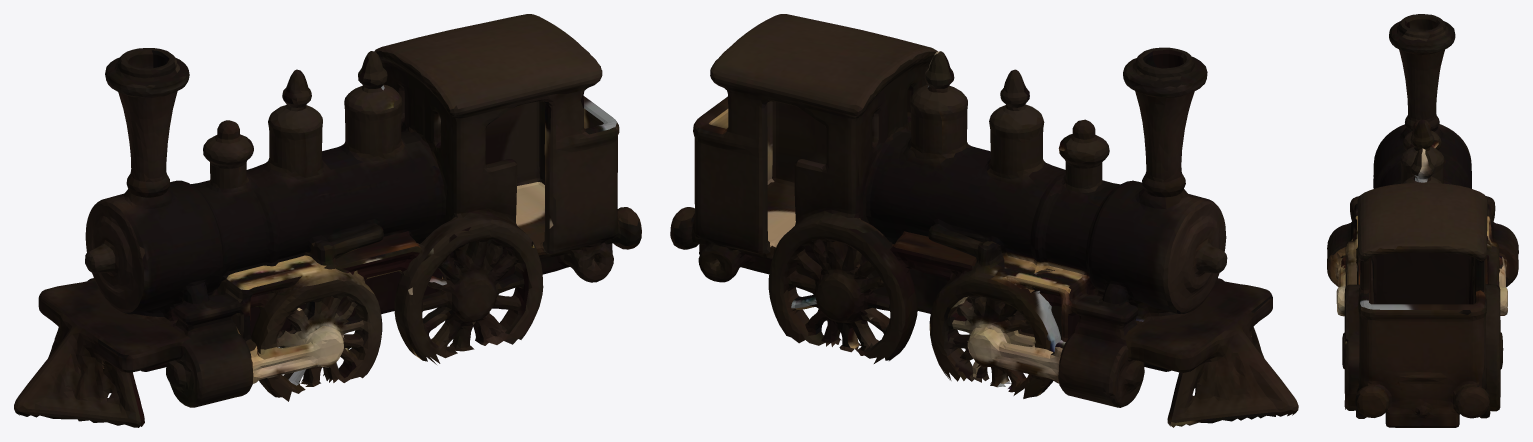
The model's file is garak_loco.glb.
The picture shows the model from 3 angles, left to right: view 1: azimuth 30°, elevation 25°; view 2: azimuth 150°, elevation 25°; view 3: azimuth 270°, elevation 25°; orthographic projection. The views are drawn at different scales.
Visible parts, largest first — view 1: garak_loco2.obj; view 2: garak_loco2.obj; view 3: garak_loco2.obj.
Boxes of the visible parts, x1,y1,x2,y2 form: garak_loco2.obj: (14,14,641,427); garak_loco2.obj: (670,14,1298,427); garak_loco2.obj: (1327,14,1518,427).
Size of the model in its own units: 1.12 by 0.6003 by 0.3941.
1 material, 1 textured.
